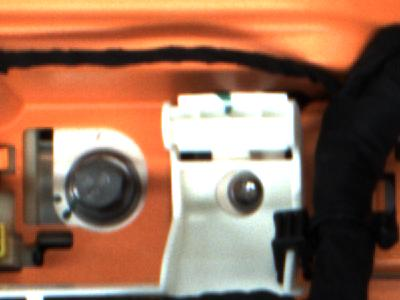nut_b: (56, 150, 152, 229)
